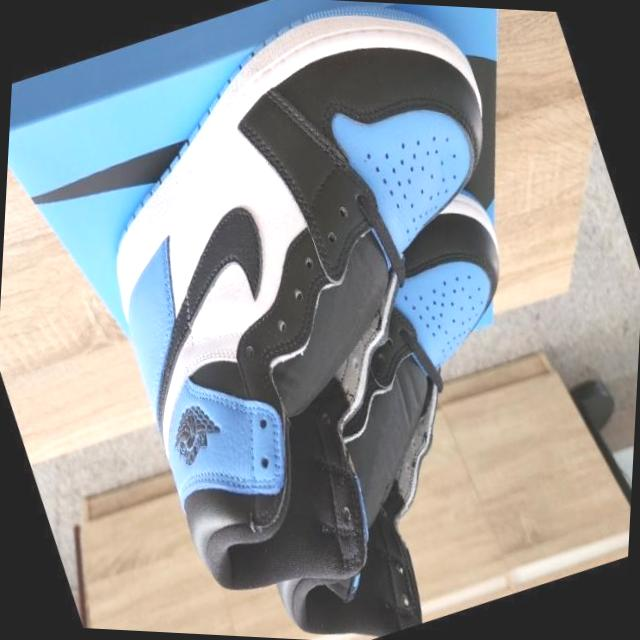nike_original_jordan: (22, 0, 637, 640), (155, 161, 623, 640)
